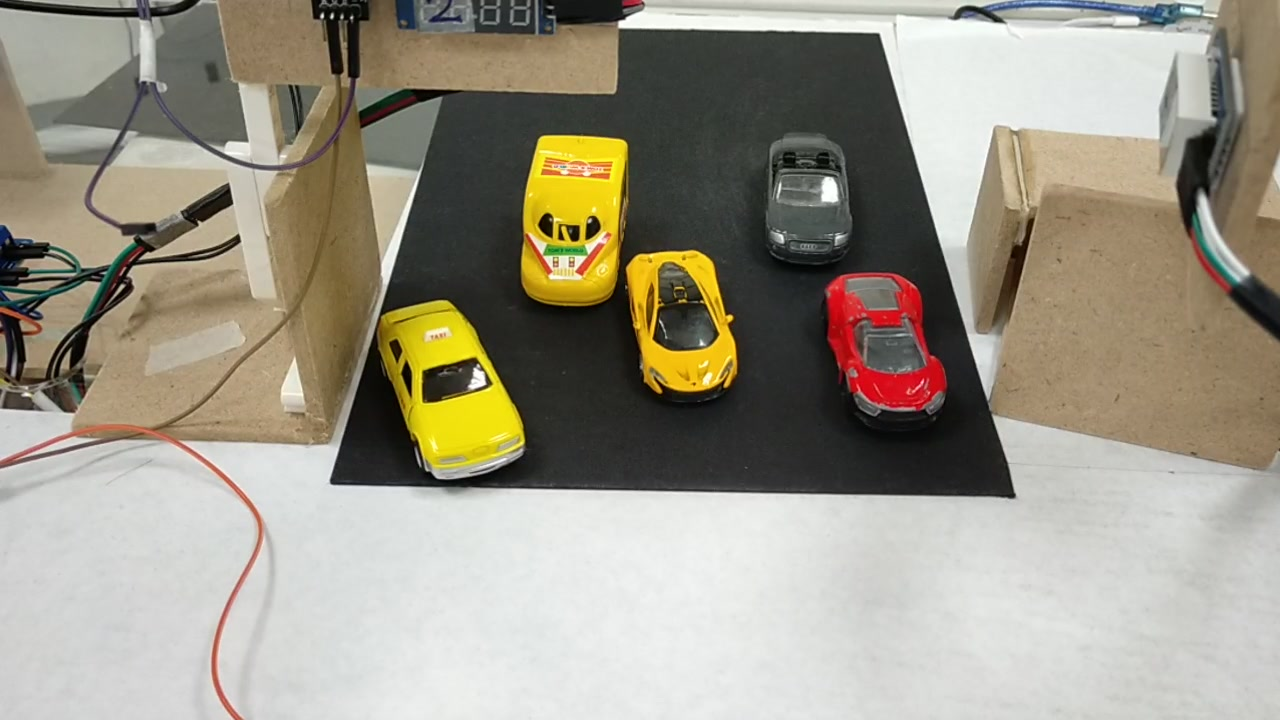car: (373, 306, 529, 484), (819, 274, 947, 431), (623, 250, 746, 404), (757, 135, 852, 264)
